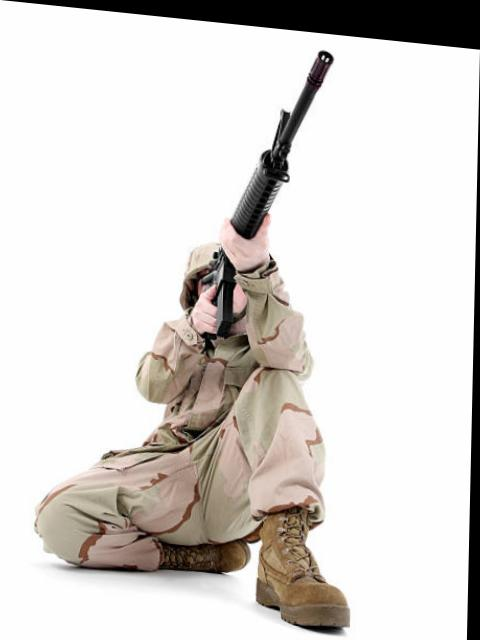other: (69, 209, 337, 613)
